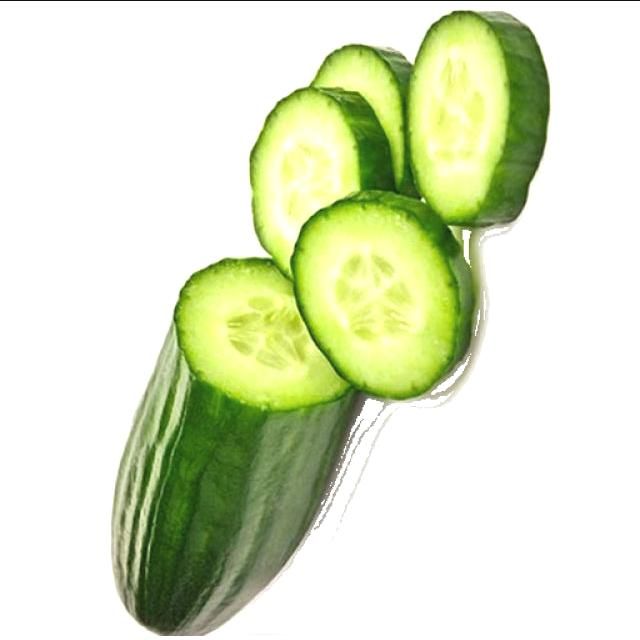cucumber: (113, 256, 358, 638)
